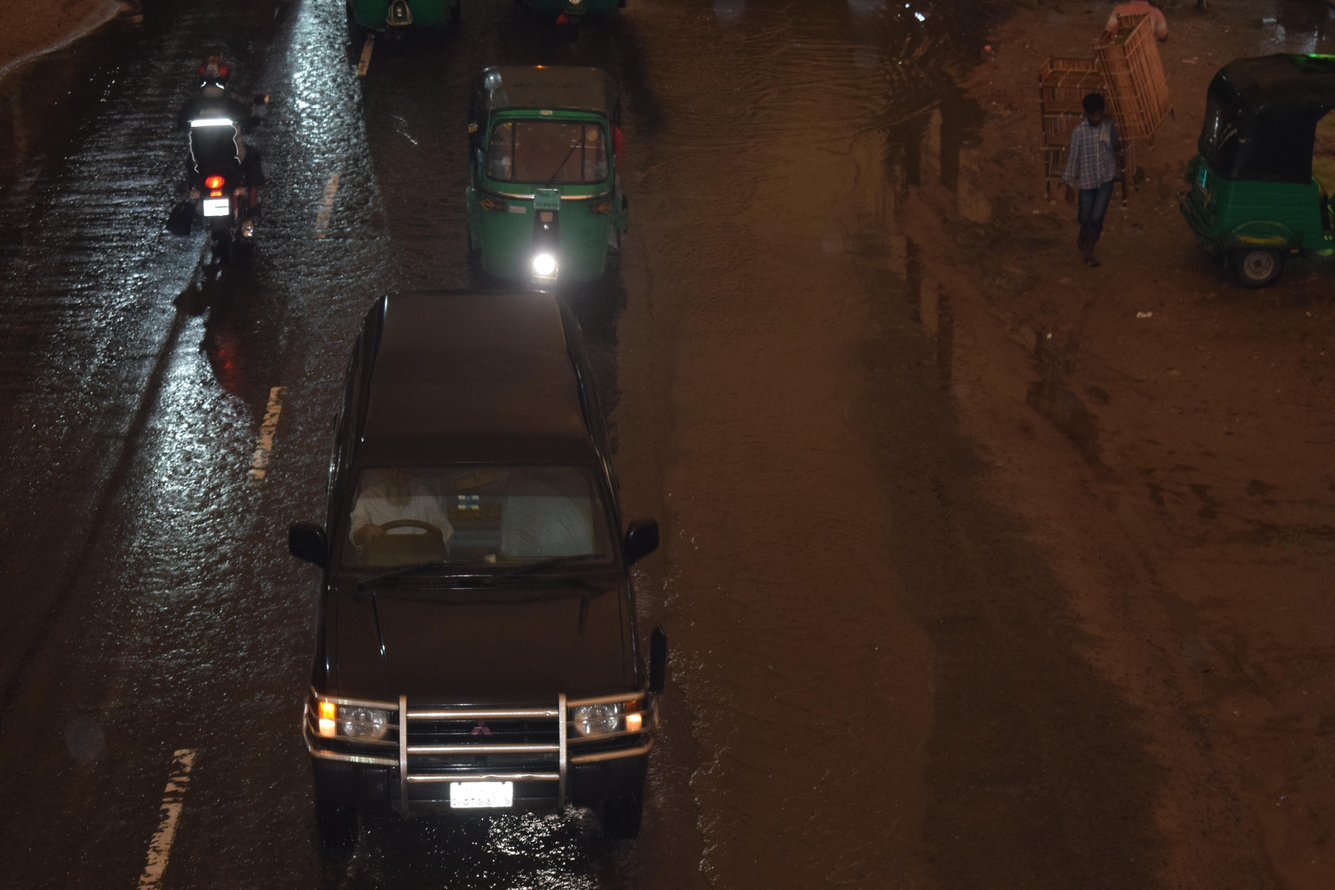Bike: (143, 26, 312, 341)
Car: (255, 260, 736, 890)
